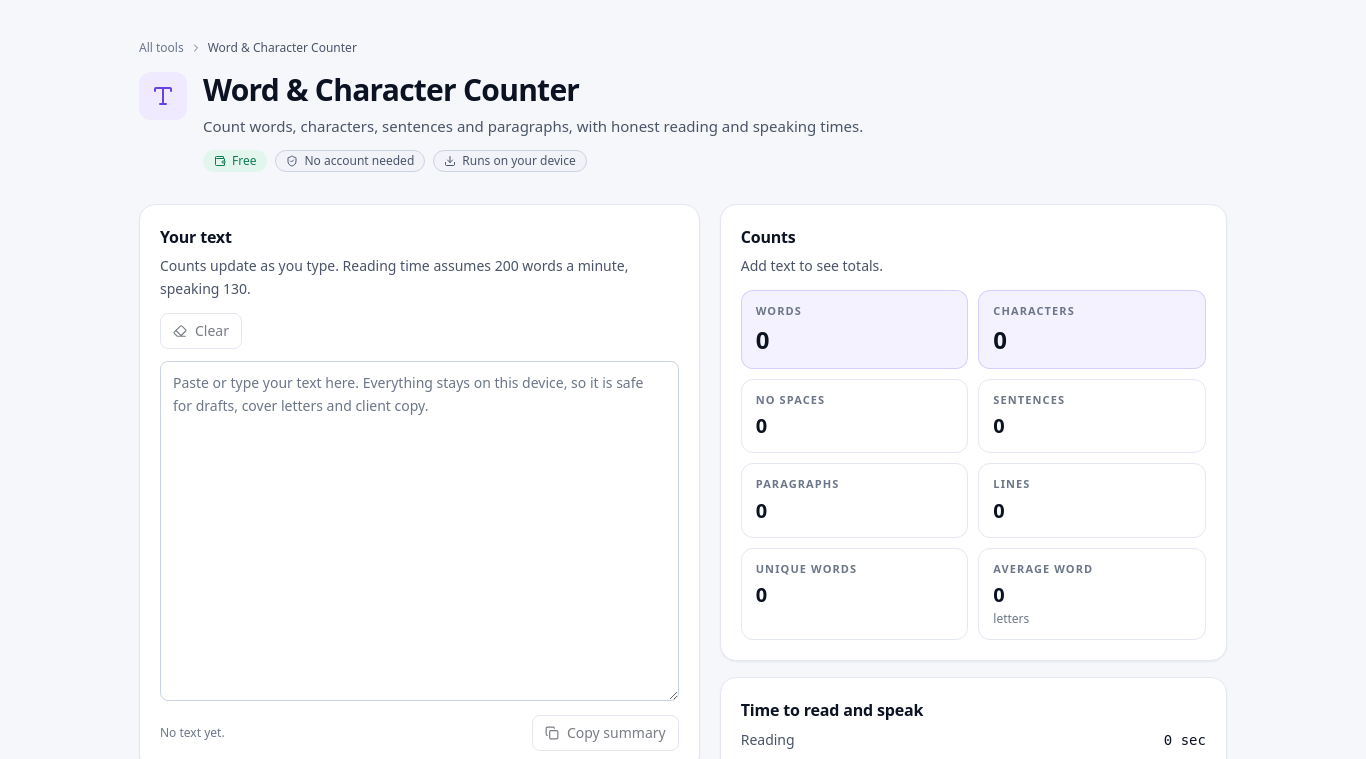
Scenario: WordCounterPage › counts words, characters and sentences as the user types
Type "Hello world. Hello again." into the text box named "Text to analyse" at (419, 531), box [160,361,679,701]
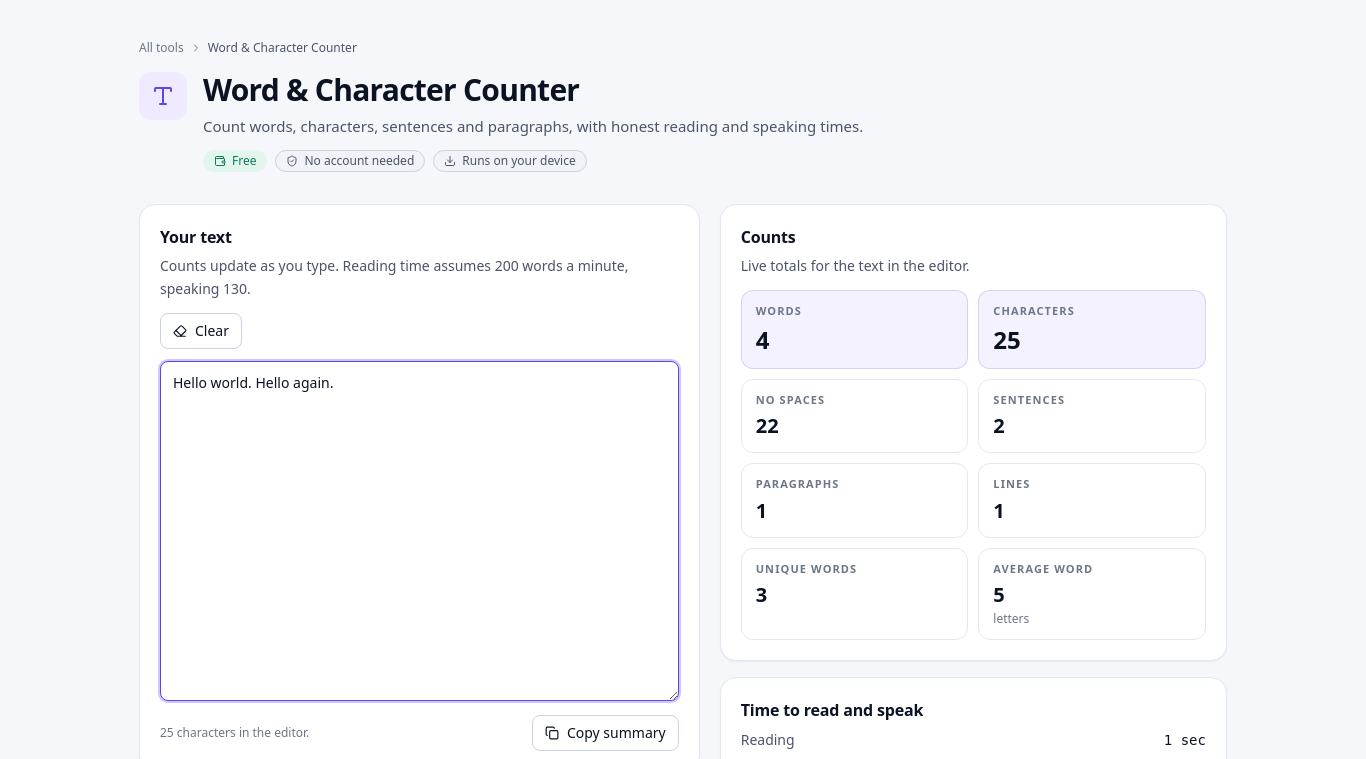
Now the text "4" is shown, box [756,323,769,356]
Now the text "2" is shown, box [993,412,1005,439]
Now the text "3" is shown, box [756,581,767,608]
